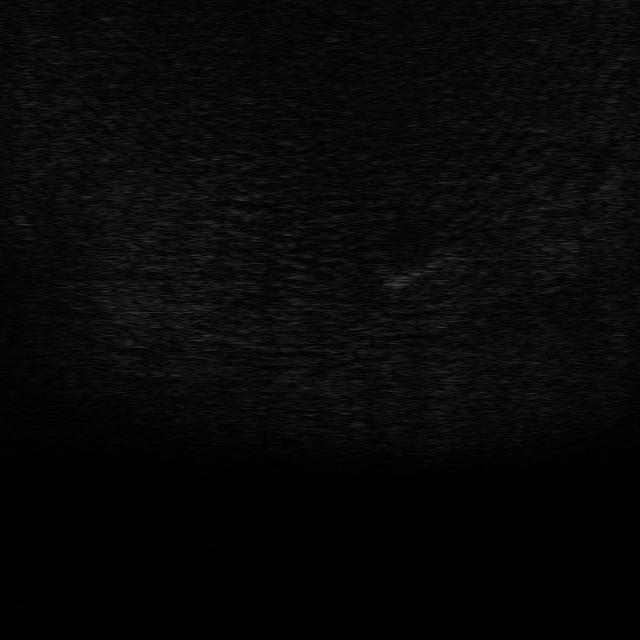plane: (376, 256, 449, 296)
